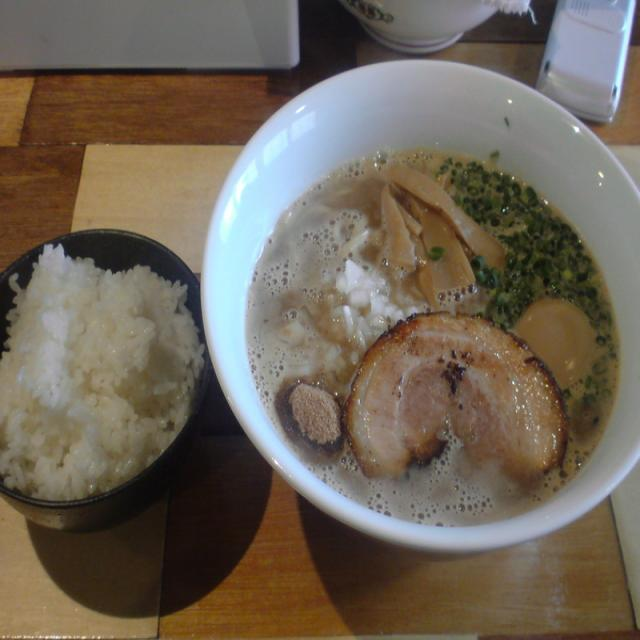rice: (22, 274, 188, 463)
